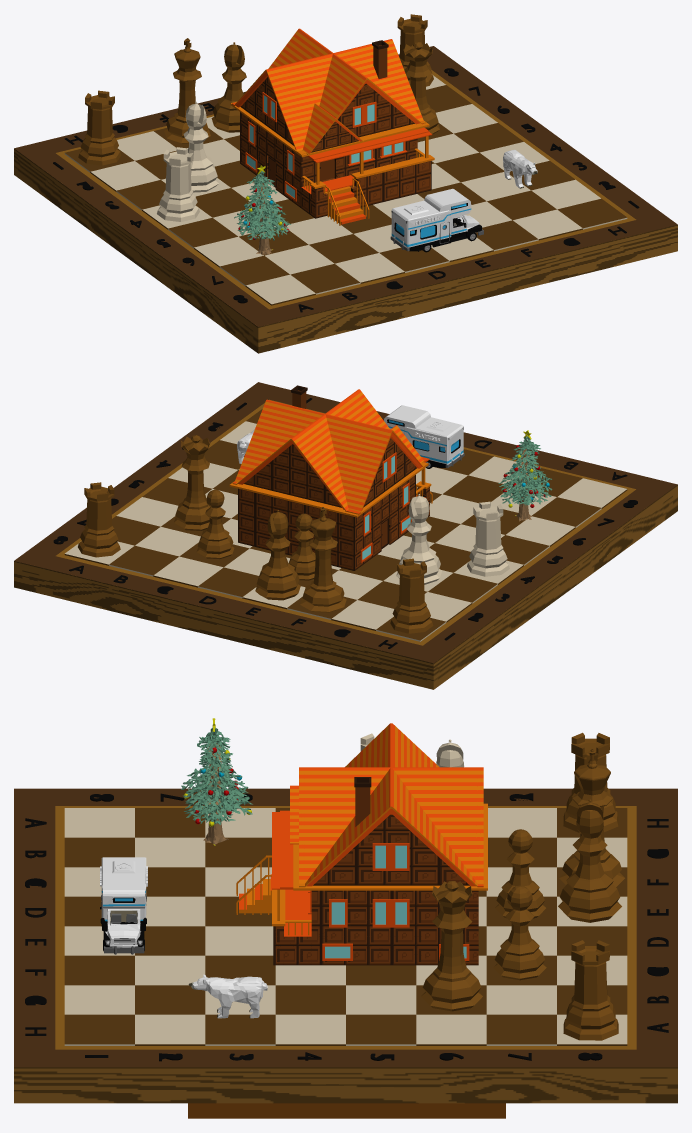
3 views of the same model, one above another, from view 1: azimuth 30°, elevation 25°; view 2: azimuth 150°, elevation 25°; view 3: azimuth 270°, elevation 25° (orthographic). The views are drawn at different scales.
Visible parts, largest first — view 1: Cube.002, Cube, VEHICLES_CAMPER, OBJRANDOM_CHRISTMAS_TREE, ANIMAL_OSO_POLAR; view 2: Cube.002, Cube, VEHICLES_CAMPER, OBJRANDOM_CHRISTMAS_TREE; view 3: Cube.002, Cube, UNDERGROUND_ART_PIECE_VAN_GOGH, VEHICLES_CAMPER, OBJRANDOM_CHRISTMAS_TREE, ANIMAL_OSO_POLAR.
Part boxes in pixels (box(x1,y1,x2,y2)): Cube.002: box(14, 14, 677, 353); Cube: box(230, 28, 434, 225); VEHICLES_CAMPER: box(390, 188, 483, 252); OBJRANDOM_CHRISTMAS_TREE: box(234, 165, 290, 255); ANIMAL_OSO_POLAR: box(503, 149, 537, 188); Cube.002: box(14, 382, 677, 689); Cube: box(229, 385, 432, 570); VEHICLES_CAMPER: box(384, 405, 464, 468); OBJRANDOM_CHRISTMAS_TREE: box(498, 430, 552, 521); Cube.002: box(14, 732, 677, 1103); Cube: box(236, 723, 487, 965); UNDERGROUND_ART_PIECE_VAN_GOGH: box(188, 1103, 505, 1118); VEHICLES_CAMPER: box(100, 857, 147, 954); OBJRANDOM_CHRISTMAS_TREE: box(181, 718, 252, 845); ANIMAL_OSO_POLAR: box(188, 974, 267, 1018).
Bounding box in the file's own units: 3981 × 1610 × 4012.
35 materials, 4 textured.
